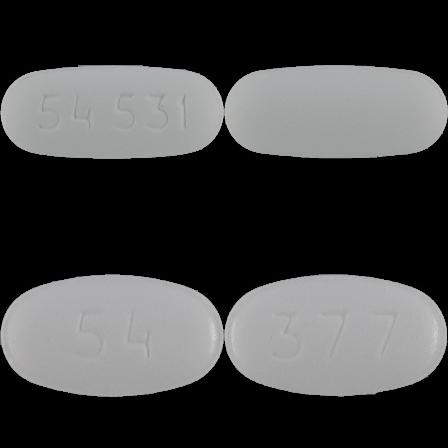0054-0223: (0, 0, 224, 224)
